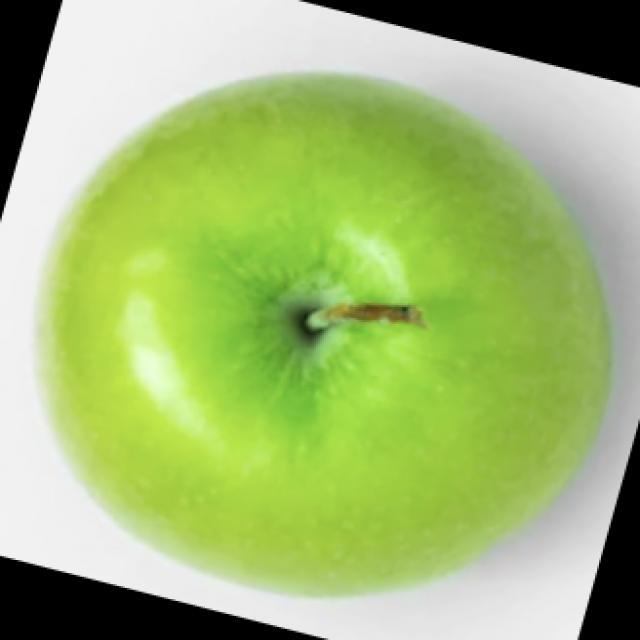Fresh Apple: (43, 75, 612, 582)
